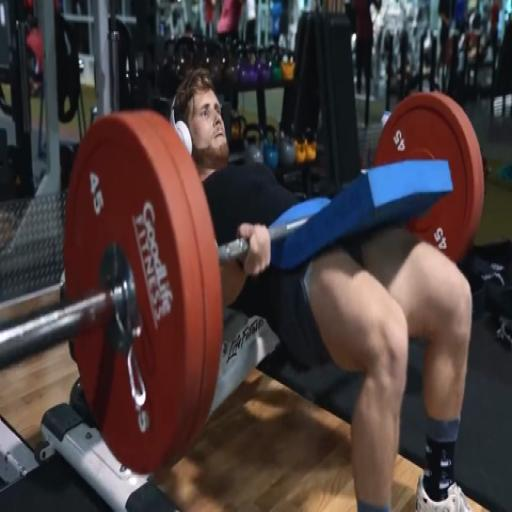exercise: (166, 67, 477, 510)
